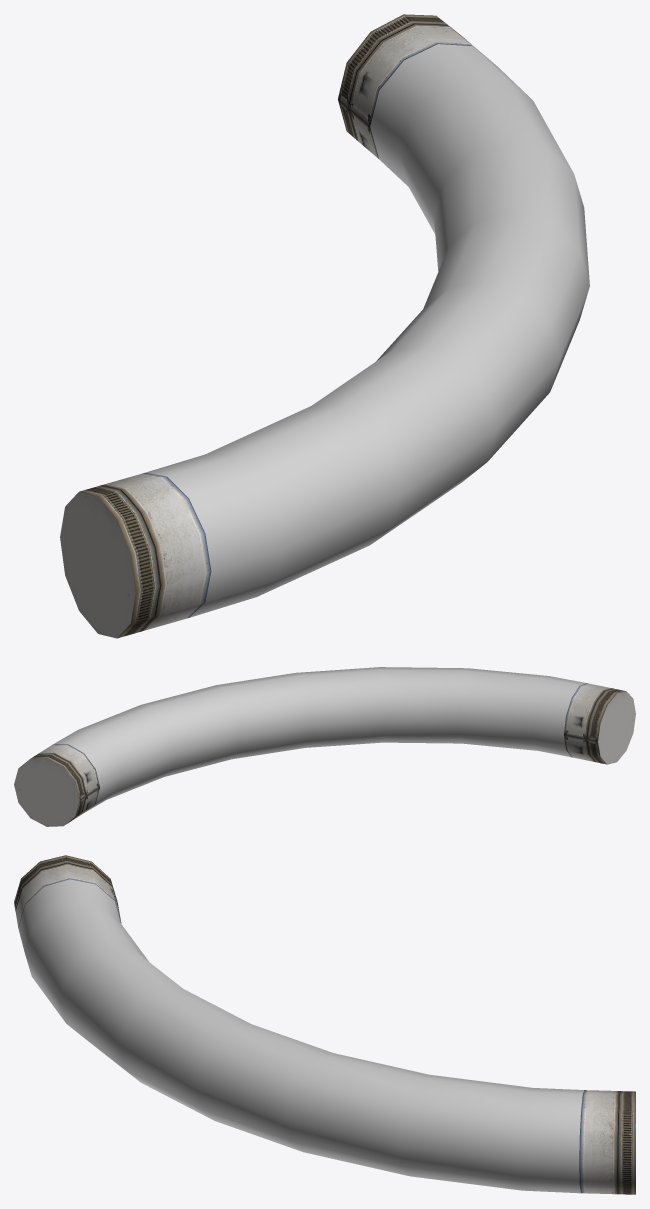
File: scifi_pipe_medium_curve1_1.FBX
3 renders of one model, top to bottom at view 1: azimuth 30°, elevation 25°; view 2: azimuth 150°, elevation 25°; view 3: azimuth 270°, elevation 25°, orthographic. The views are drawn at different scales.
Parts seen in each view (by area): view 1: Cylinder019; view 2: Cylinder019; view 3: Cylinder019.
Boxes of the visible parts, bbox=[...] form: Cylinder019: bbox=[60, 14, 589, 638]; Cylinder019: bbox=[14, 667, 635, 826]; Cylinder019: bbox=[14, 855, 635, 1194].
Bounding box in the file's own units: 305 × 50.8 × 305.
